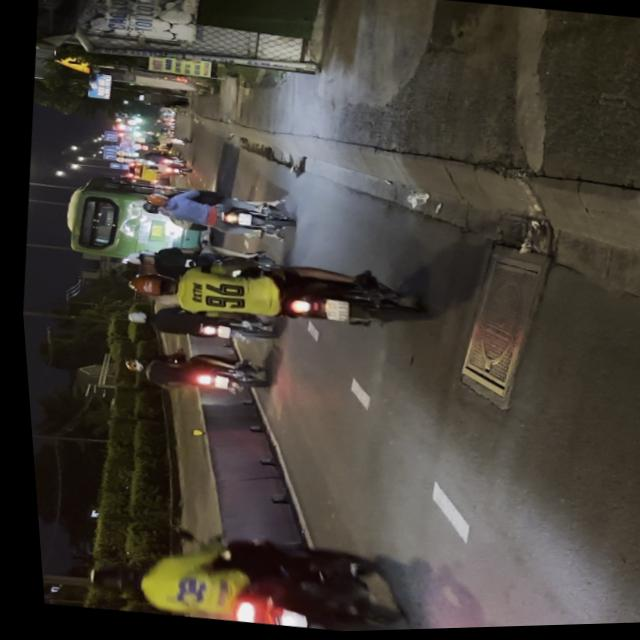helmet: (76, 559, 138, 599), (120, 271, 171, 301)
licenseplate: (70, 511, 420, 639), (112, 236, 422, 348)
nohelmet: (318, 300, 344, 324), (266, 611, 295, 629)
